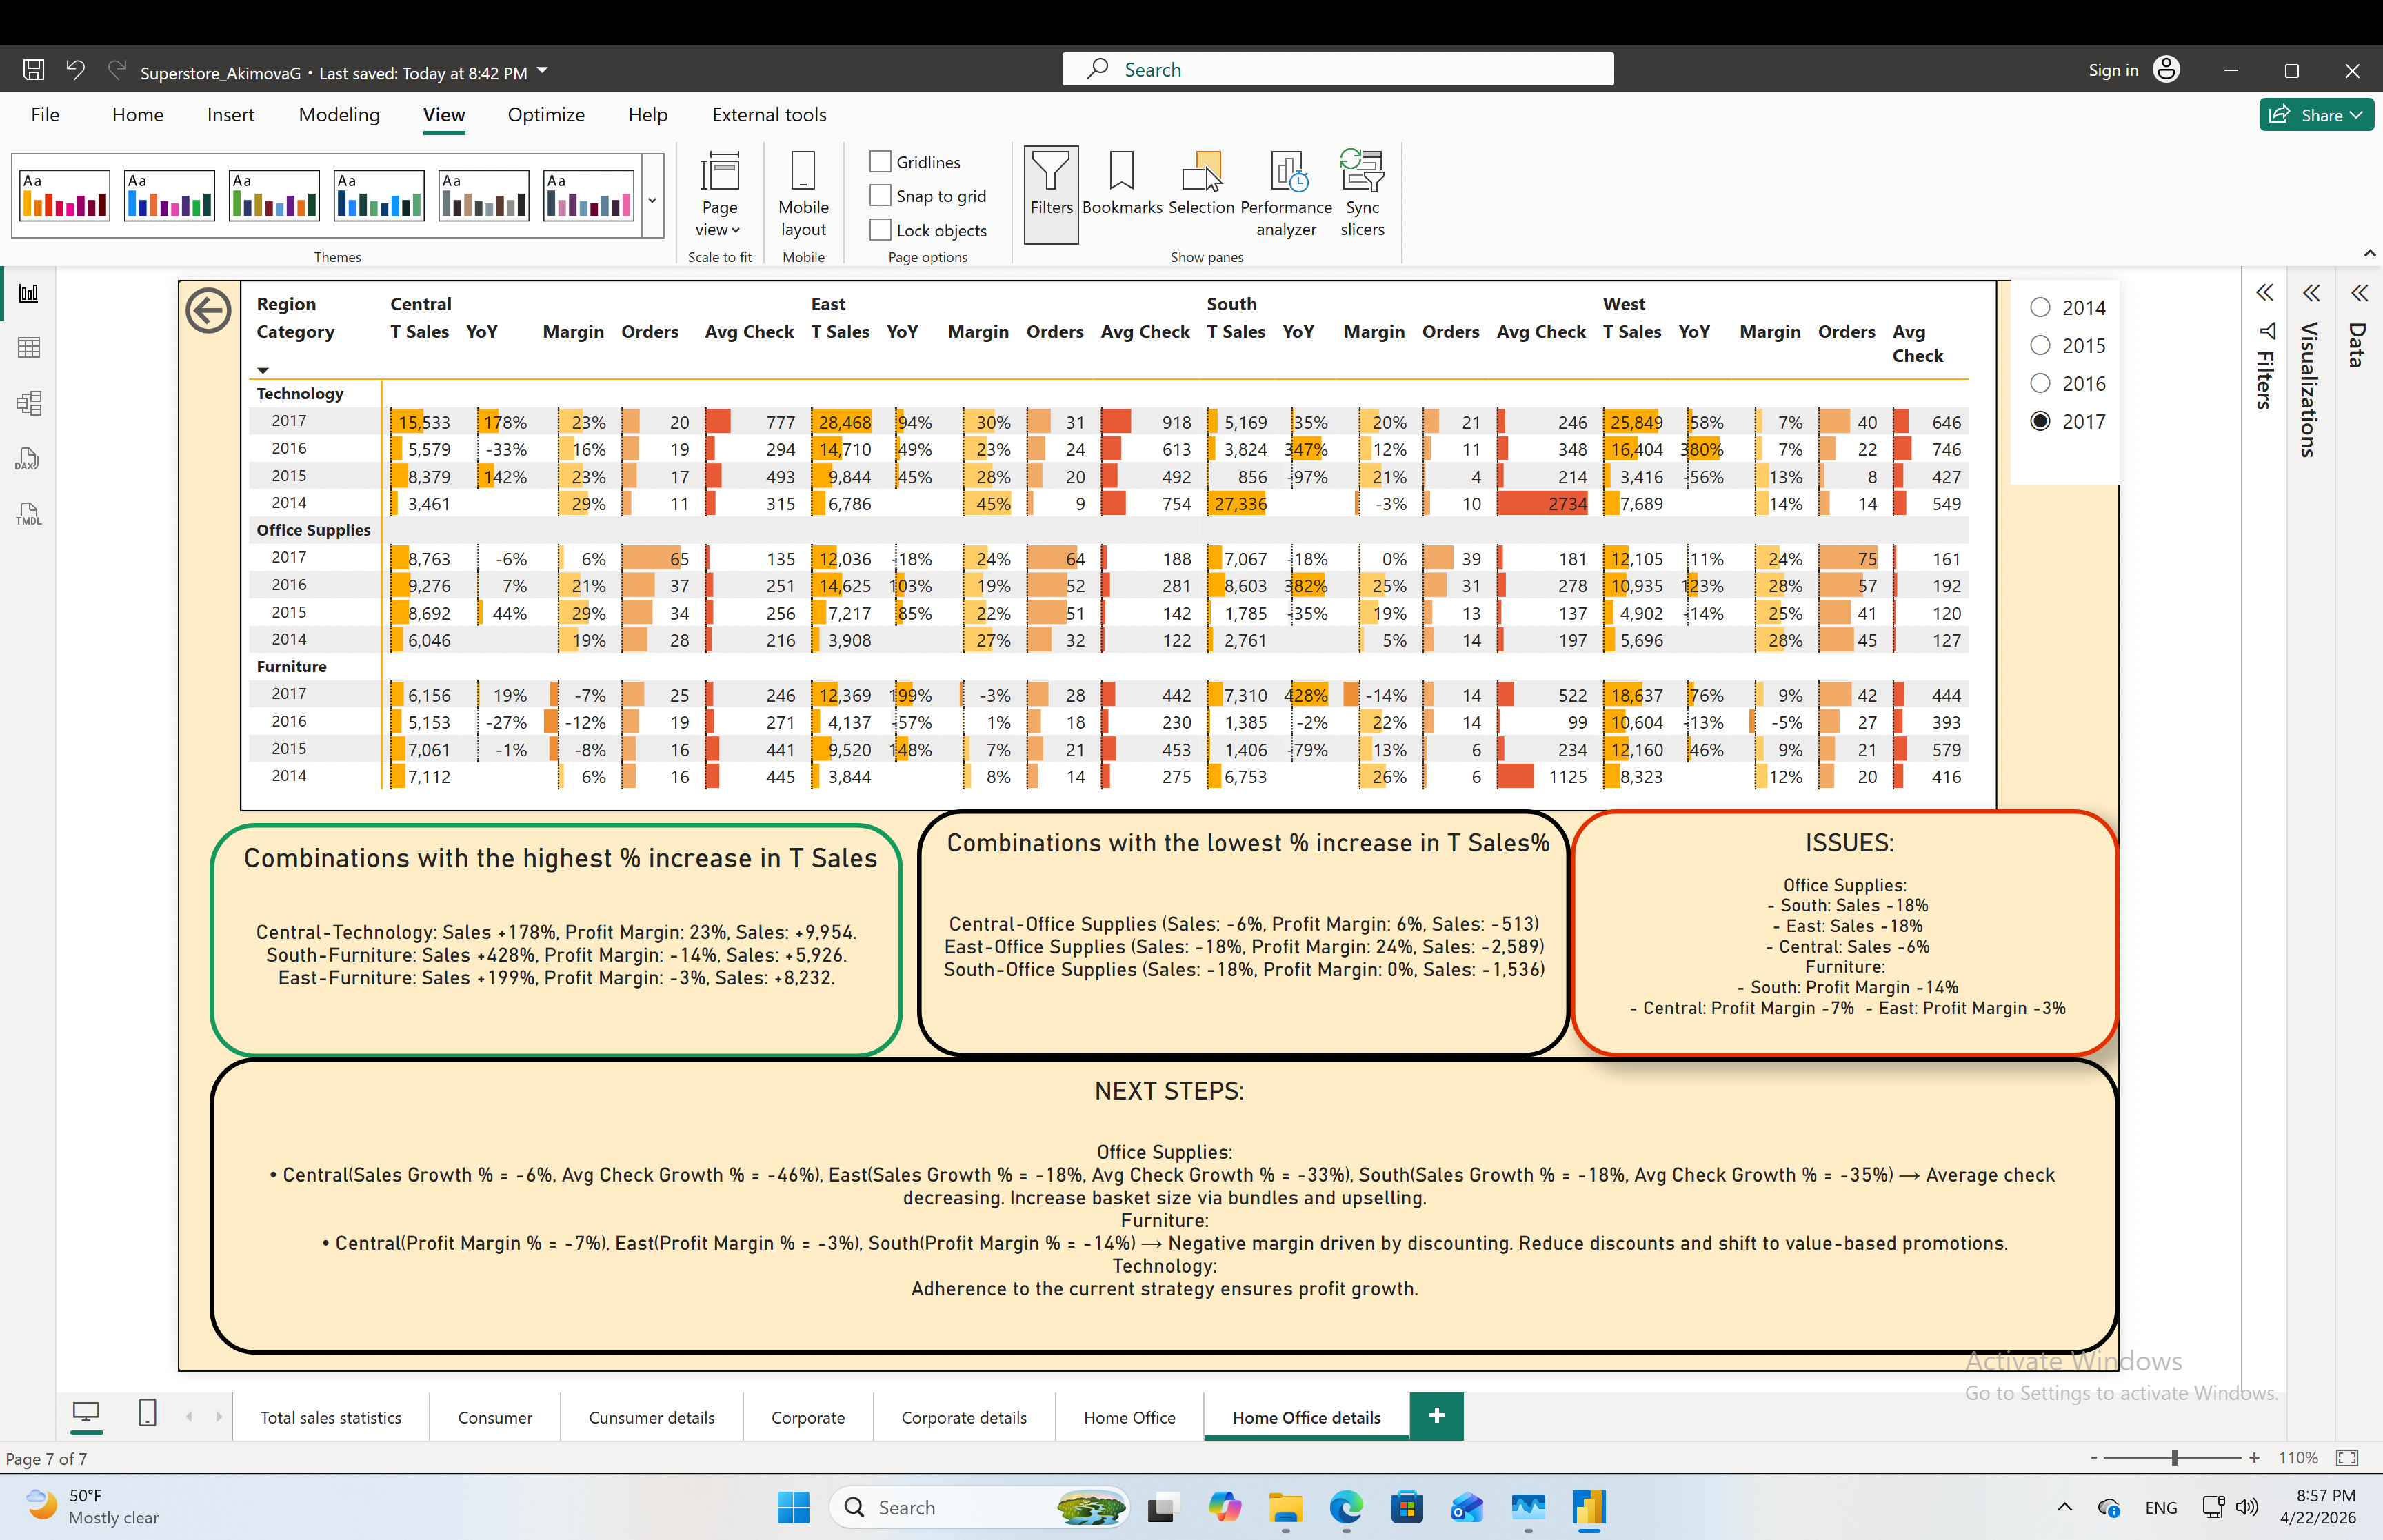

This screenshot's page, from the dashboard's own definition file:
{"tool":"powerbi","page":{"name":"Home Office details","canvas":[1280,720],"ordinal":6},"visuals":[{"type":"pivotTable","title":"KPI","fields":{"Columns":["Sales.Region"],"Values":["_Measures.Total Sales","_Measures.YoY_Growth","_Measures.Profit Margin","_Measures.Distinct Orders","_Measures.Avg Check"],"Rows":["Sales.Category","DateTable.Year"]},"box":[40.9,0,1158.6,350.7],"z":0},{"type":"card","title":"Combinations with the highest % increase in T Sales","fields":{"Values":["_Measures.Top 3 Combos Detailed"]},"box":[21.1,358.1,457.2,154.9],"z":1000},{"type":"card","title":"Combinations with the lowest % increase in T Sales%","fields":{"Values":["_Measures.Bottom 3 Combos Detailed"]},"box":[487,349.4,431.2,163.6],"z":2000},{"type":"card","title":"ISSUES:","fields":{"Values":["_Measures.Decline Insight"]},"box":[918.2,349.4,361.8,163.6],"z":3000},{"type":"card","title":"NEXT STEPS:","fields":{"Values":["_Measures.Next_Steps"]},"box":[20.8,512.9,1259.2,196.2],"z":4000},{"type":"actionButton","box":[0,0,41.3,40.4],"z":5000},{"type":"slicer","fields":{"Values":["DateTable.Year"]},"box":[1208.1,0,71.9,135.1],"z":5500}]}

Visuals, with their boxes on the page's 1280x720 design canvas (x1, y1, x2, y2). These are canvas units, not pixel positions in the 2383x1540 screenshot, which may show the page scaled, cropped or inside an application window:
"KPI" pivotTable: 41,0,1200,351
"Combinations with the highest % increase in T Sales" card: 21,358,478,513
"Combinations with the lowest % increase in T Sales%" card: 487,349,918,513
"ISSUES:" card: 918,349,1280,513
"NEXT STEPS:" card: 21,513,1280,709
actionButton: 0,0,41,40
slicer - DateTable.Year: 1208,0,1280,135
